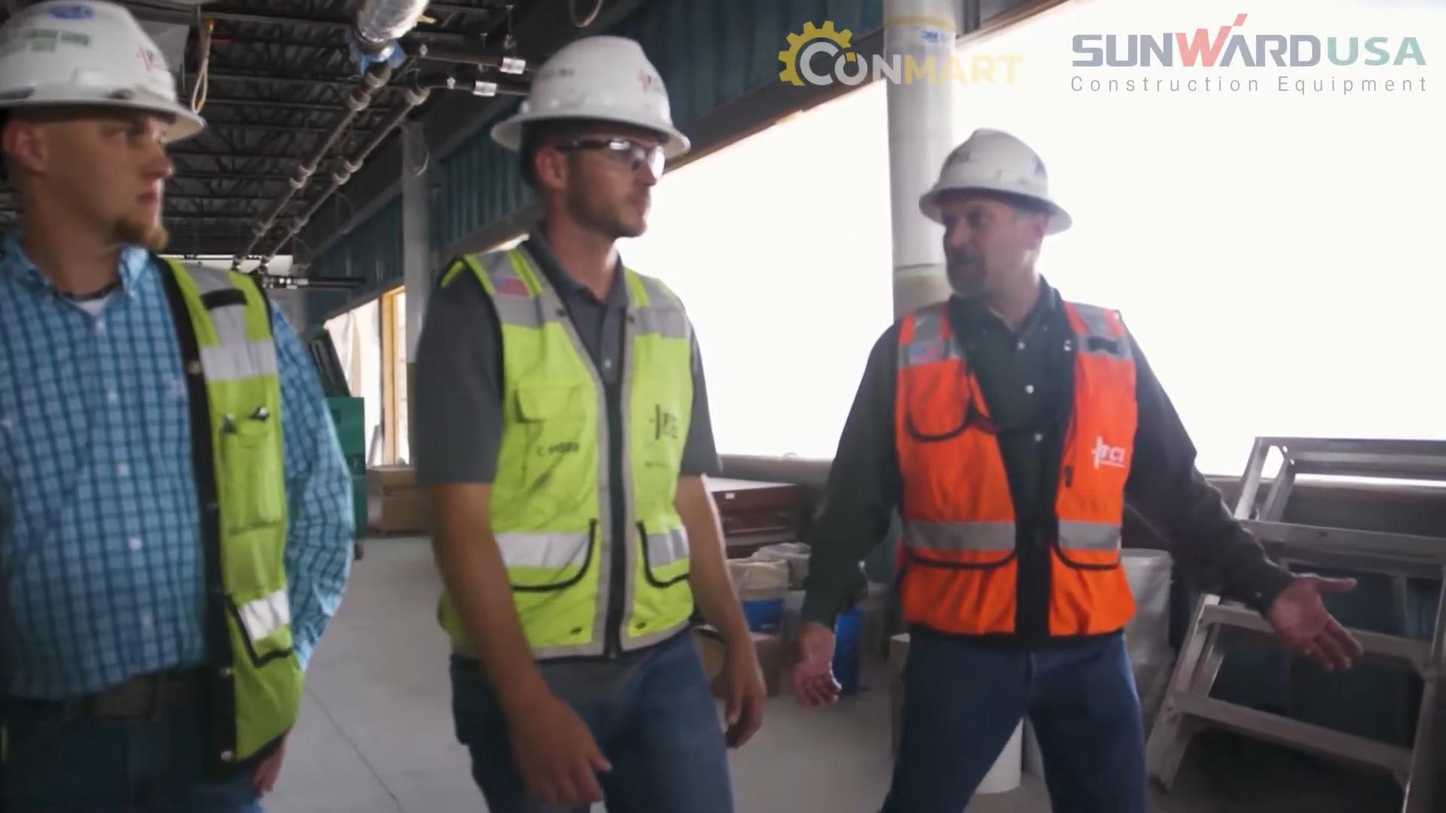Helmet: (0, 0, 206, 144), (503, 32, 683, 143), (923, 136, 1100, 230)
Person: (840, 132, 1356, 813), (0, 0, 358, 813), (422, 17, 772, 813)
Safety Vest: (0, 277, 303, 711), (473, 267, 710, 638), (898, 316, 1130, 638)
bare-arms: (501, 706, 633, 813), (1261, 578, 1376, 685), (785, 619, 868, 732), (719, 653, 772, 740)
